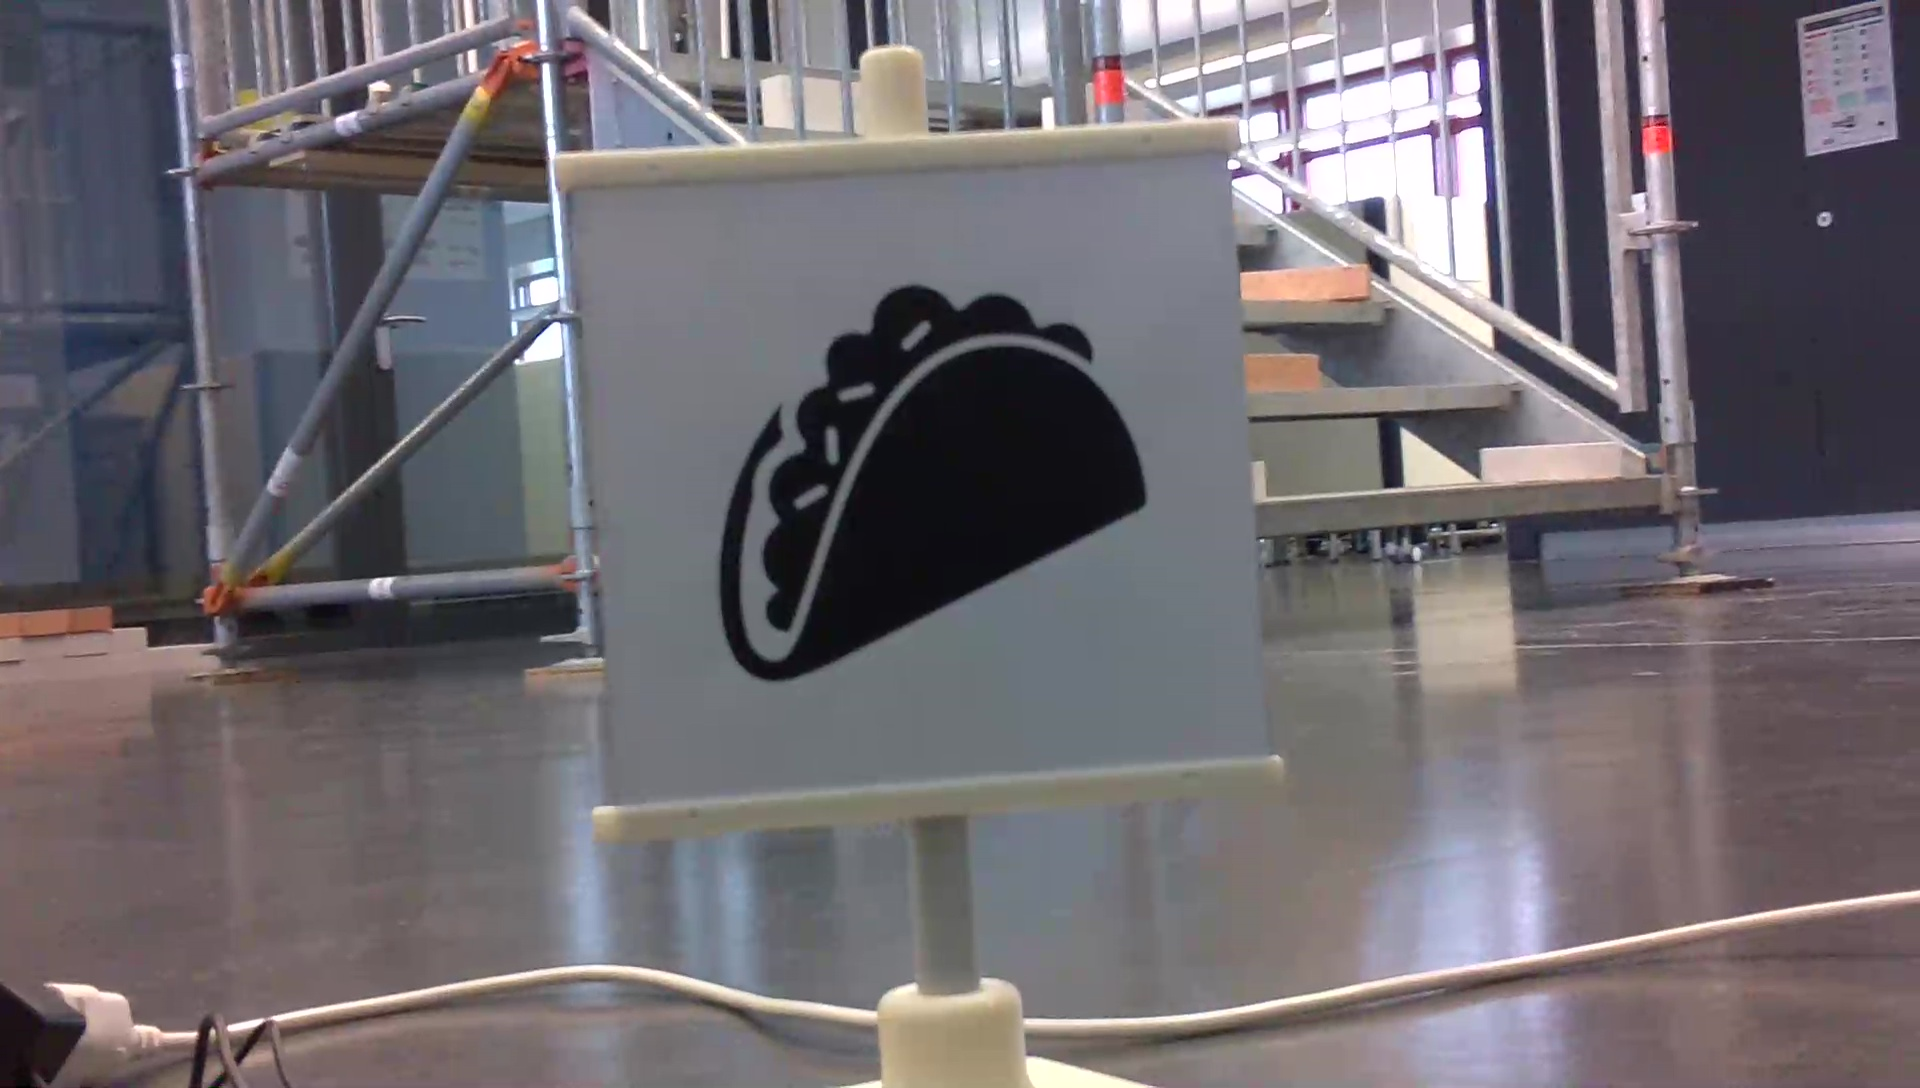brick: (1484, 440, 1621, 477), (1244, 266, 1367, 298), (1244, 353, 1313, 390)
taco: (708, 270, 1163, 692)
